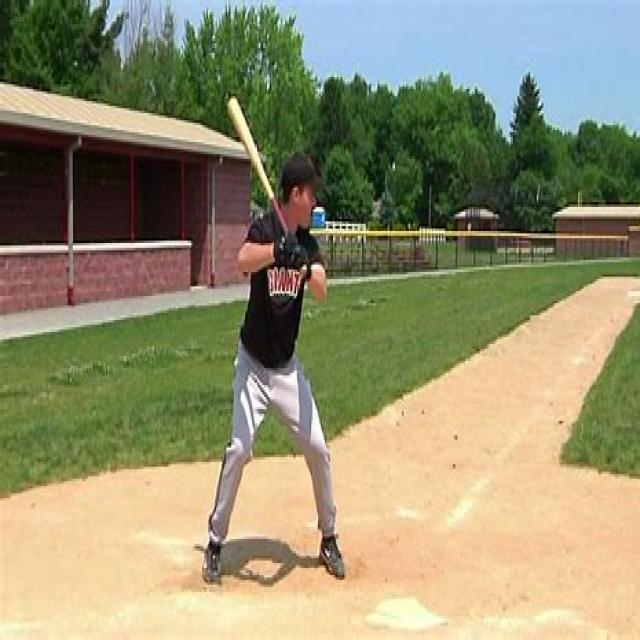bat: (224, 91, 291, 238)
